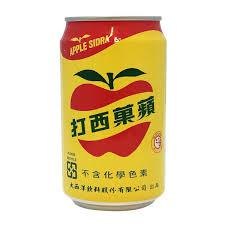beer: (60, 16, 164, 210)
